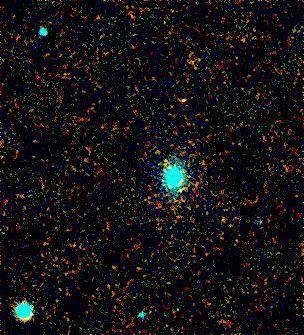star: (168, 86, 198, 116)
